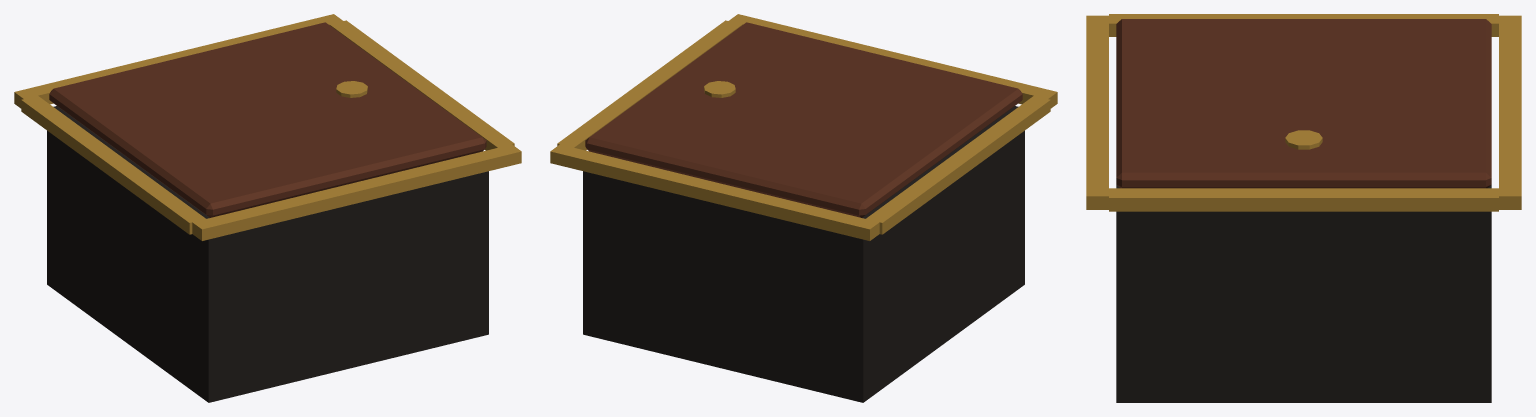
The model's file is trapdoor.glb.
3 renders of one model, left to right at view 1: azimuth 30°, elevation 25°; view 2: azimuth 150°, elevation 25°; view 3: azimuth 270°, elevation 25°, orthographic. The views are drawn at different scales.
Visible parts, largest first — view 1: Frame_mesh, Door_mesh; view 2: Frame_mesh, Door_mesh; view 3: Frame_mesh, Door_mesh.
Boxes of the visible parts, left/top/right/bottom form: Frame_mesh: left=14, top=14, right=521, bottom=402; Door_mesh: left=49, top=22, right=486, bottom=217; Frame_mesh: left=550, top=14, right=1057, bottom=402; Door_mesh: left=585, top=22, right=1022, bottom=217; Frame_mesh: left=1086, top=14, right=1521, bottom=402; Door_mesh: left=1116, top=19, right=1491, bottom=188.
Bounding box in the file's own units: 1.16 × 0.686 × 1.16.
